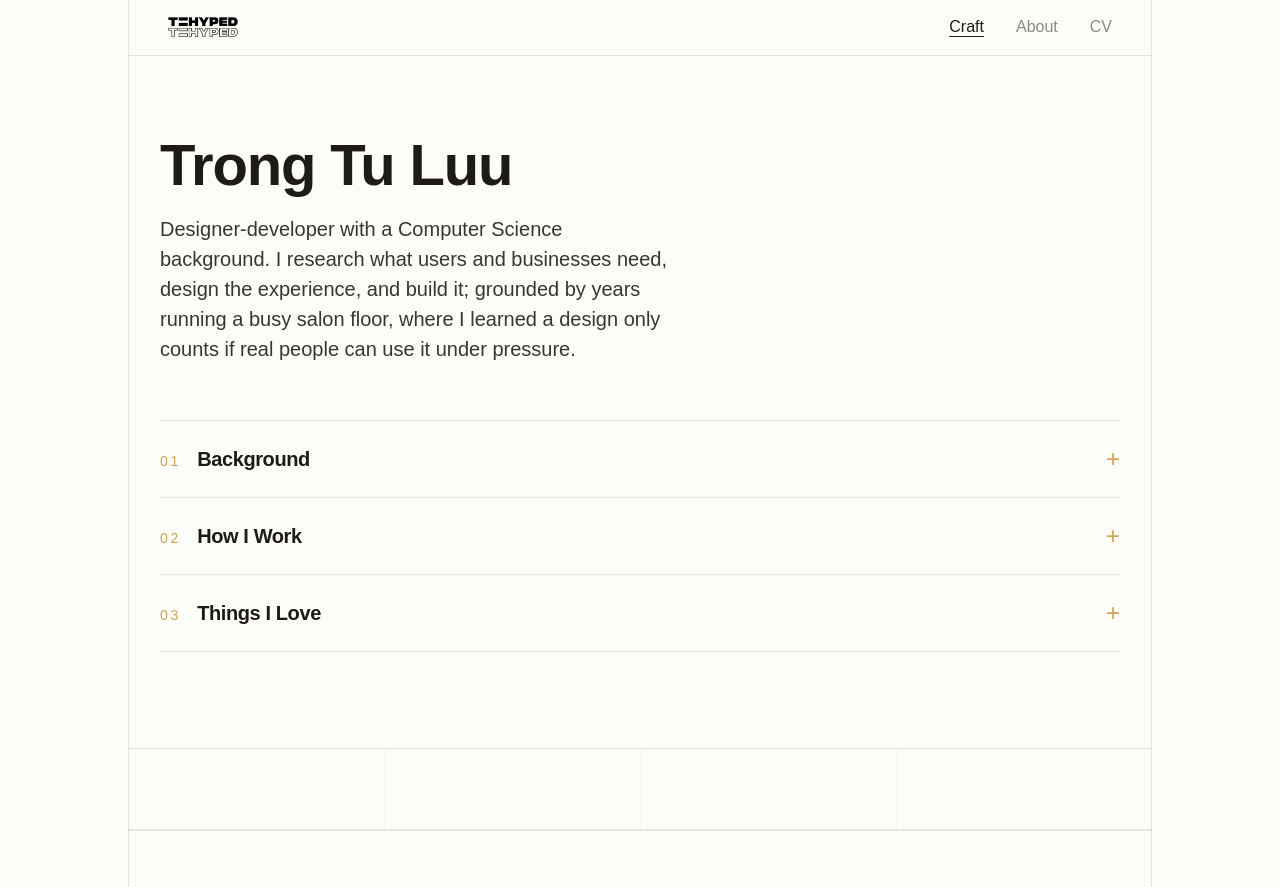
Test: About accordion › clicking a section button reveals its content
Click the button "01 Background +".
click(254, 459)  # box [160,421,1120,497]
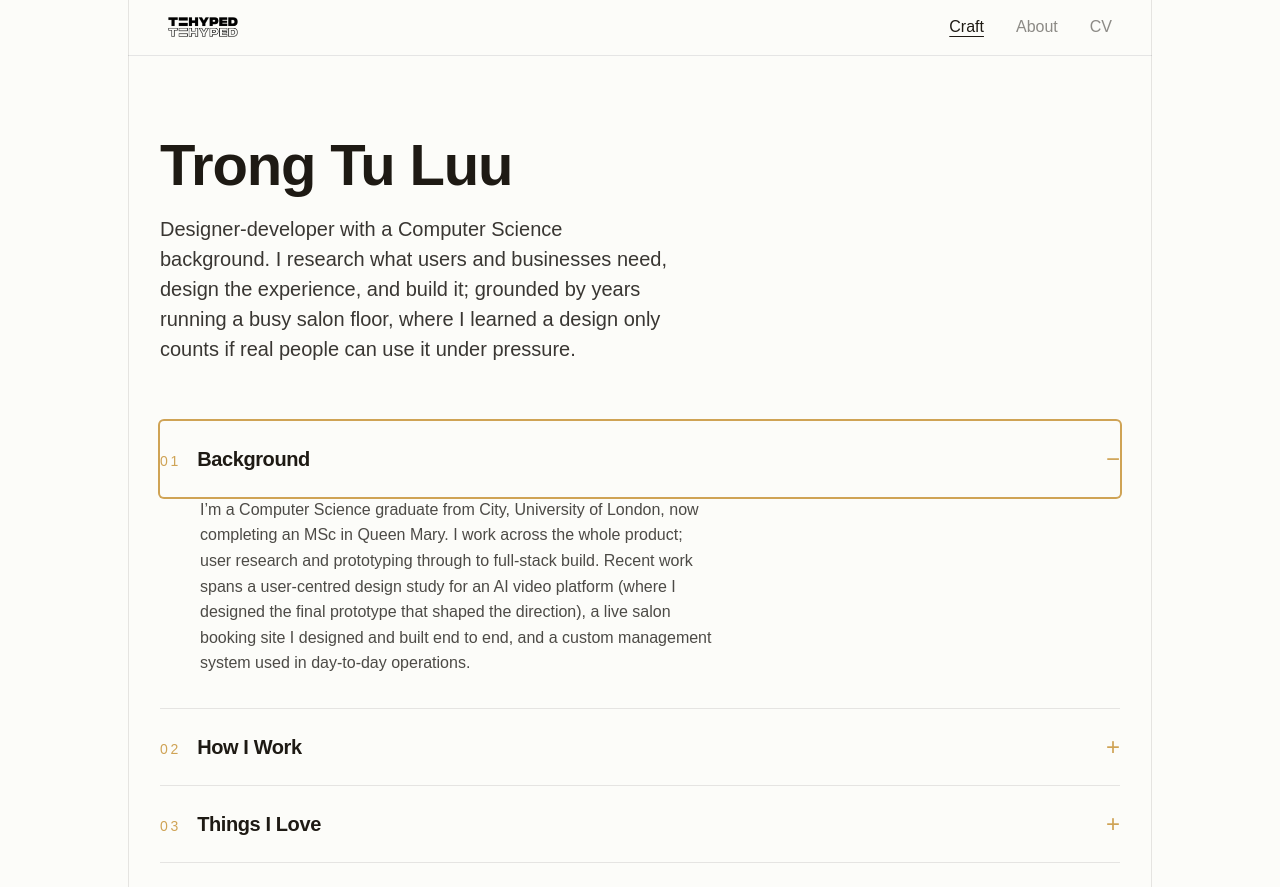
Expected: the text "MSc in Queen Mary" is shown, [200,501,712,671]
